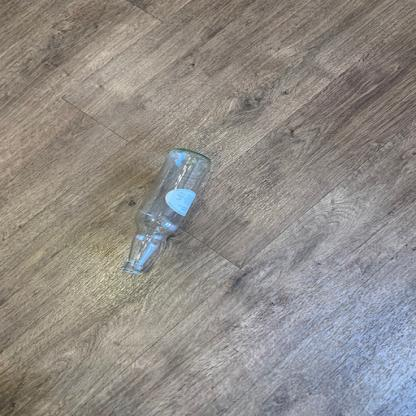trash: (123, 143, 216, 278)
